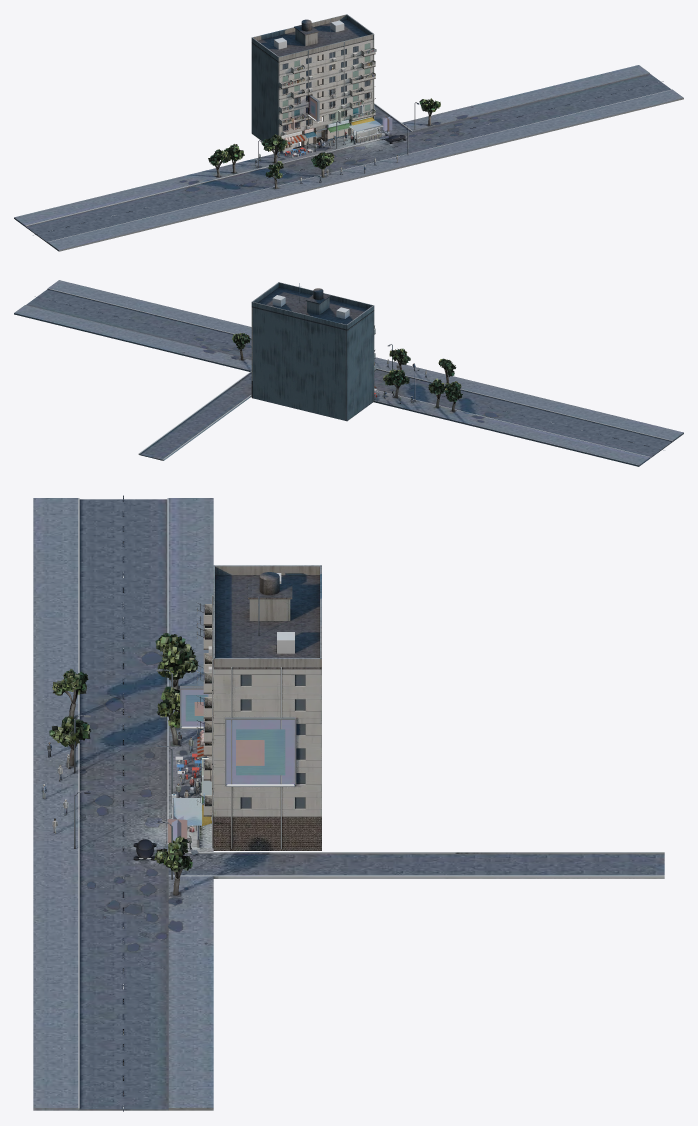
File: old_apartment_low.glb
3 renders of one model, top to bottom at view 1: azimuth 30°, elevation 25°; view 2: azimuth 150°, elevation 25°; view 3: azimuth 270°, elevation 25°, orthographic. The views are drawn at different scales.
Parts seen in each view (by area): view 1: site_ground, walls_ext, roof, props_balconies, site_trees, windows, props_signs, props_shops, props_metro, props_breakfast, props_people; view 2: site_ground, walls_ext, roof, site_trees; view 3: site_ground, walls_ext, roof, props_signs, site_trees, props_balconies, windows, props_metro, props_people.
Boxes of the visible parts, x1=… form: site_ground: x1=14, y1=65, x2=683, y2=251; walls_ext: x1=251, y1=39, x2=373, y2=152; roof: x1=251, y1=14, x2=374, y2=62; props_balconies: x1=279, y1=35, x2=376, y2=144; site_trees: x1=208, y1=98, x2=440, y2=188; windows: x1=282, y1=43, x2=370, y2=131; props_signs: x1=281, y1=95, x2=392, y2=138; props_shops: x1=304, y1=117, x2=374, y2=146; props_metro: x1=349, y1=120, x2=383, y2=144; props_breakfast: x1=281, y1=134, x2=312, y2=157; props_people: x1=255, y1=127, x2=398, y2=183; site_ground: x1=14, y1=280, x2=683, y2=466; walls_ext: x1=251, y1=307, x2=374, y2=421; roof: x1=251, y1=282, x2=374, y2=330; site_trees: x1=232, y1=333, x2=462, y2=411; site_ground: x1=33, y1=495, x2=664, y2=1111; walls_ext: x1=213, y1=629, x2=321, y2=850; roof: x1=213, y1=565, x2=321, y2=669; props_signs: x1=167, y1=686, x2=296, y2=843; site_trees: x1=49, y1=633, x2=198, y2=895; props_balconies: x1=196, y1=595, x2=281, y2=848; windows: x1=240, y1=674, x2=305, y2=808; props_metro: x1=171, y1=794, x2=201, y2=847; props_people: x1=41, y1=729, x2=202, y2=849.
Bounding box in the file's own units: 162 × 31 × 70.
13 materials, 13 textured.
